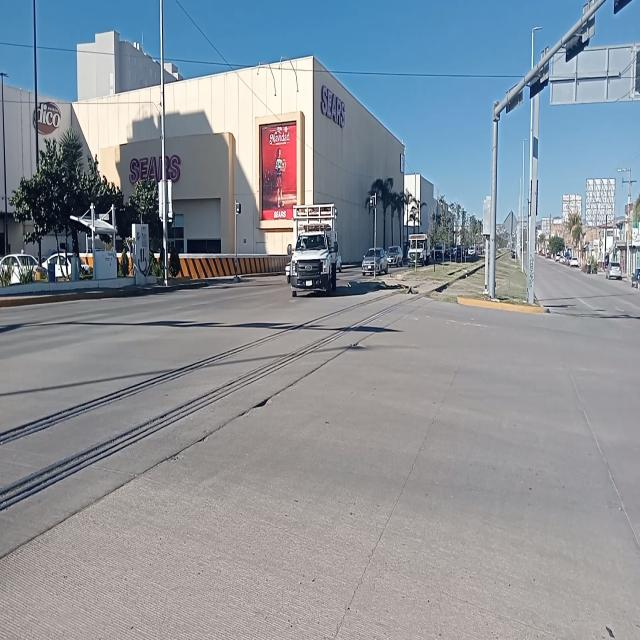Auto: (288, 208, 339, 294)
